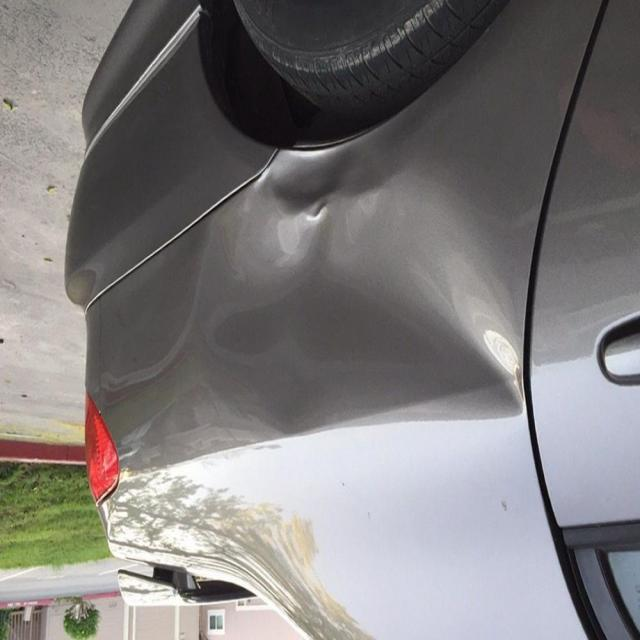dent: (158, 125, 544, 476)
